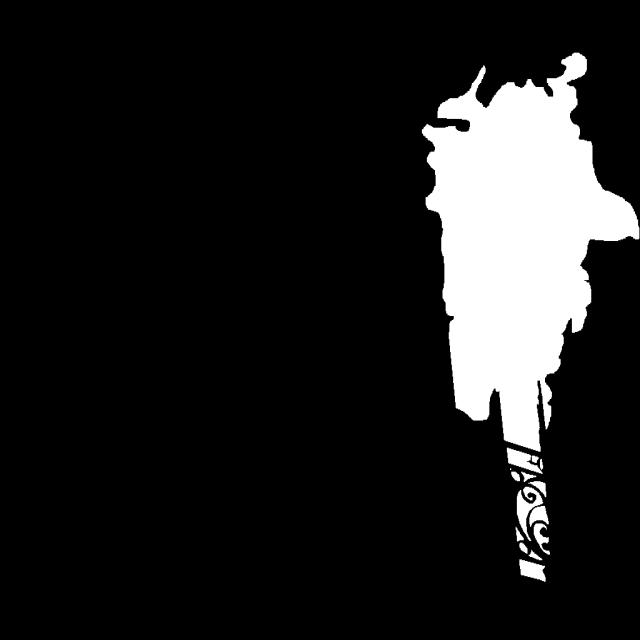fire: (422, 74, 625, 630)
